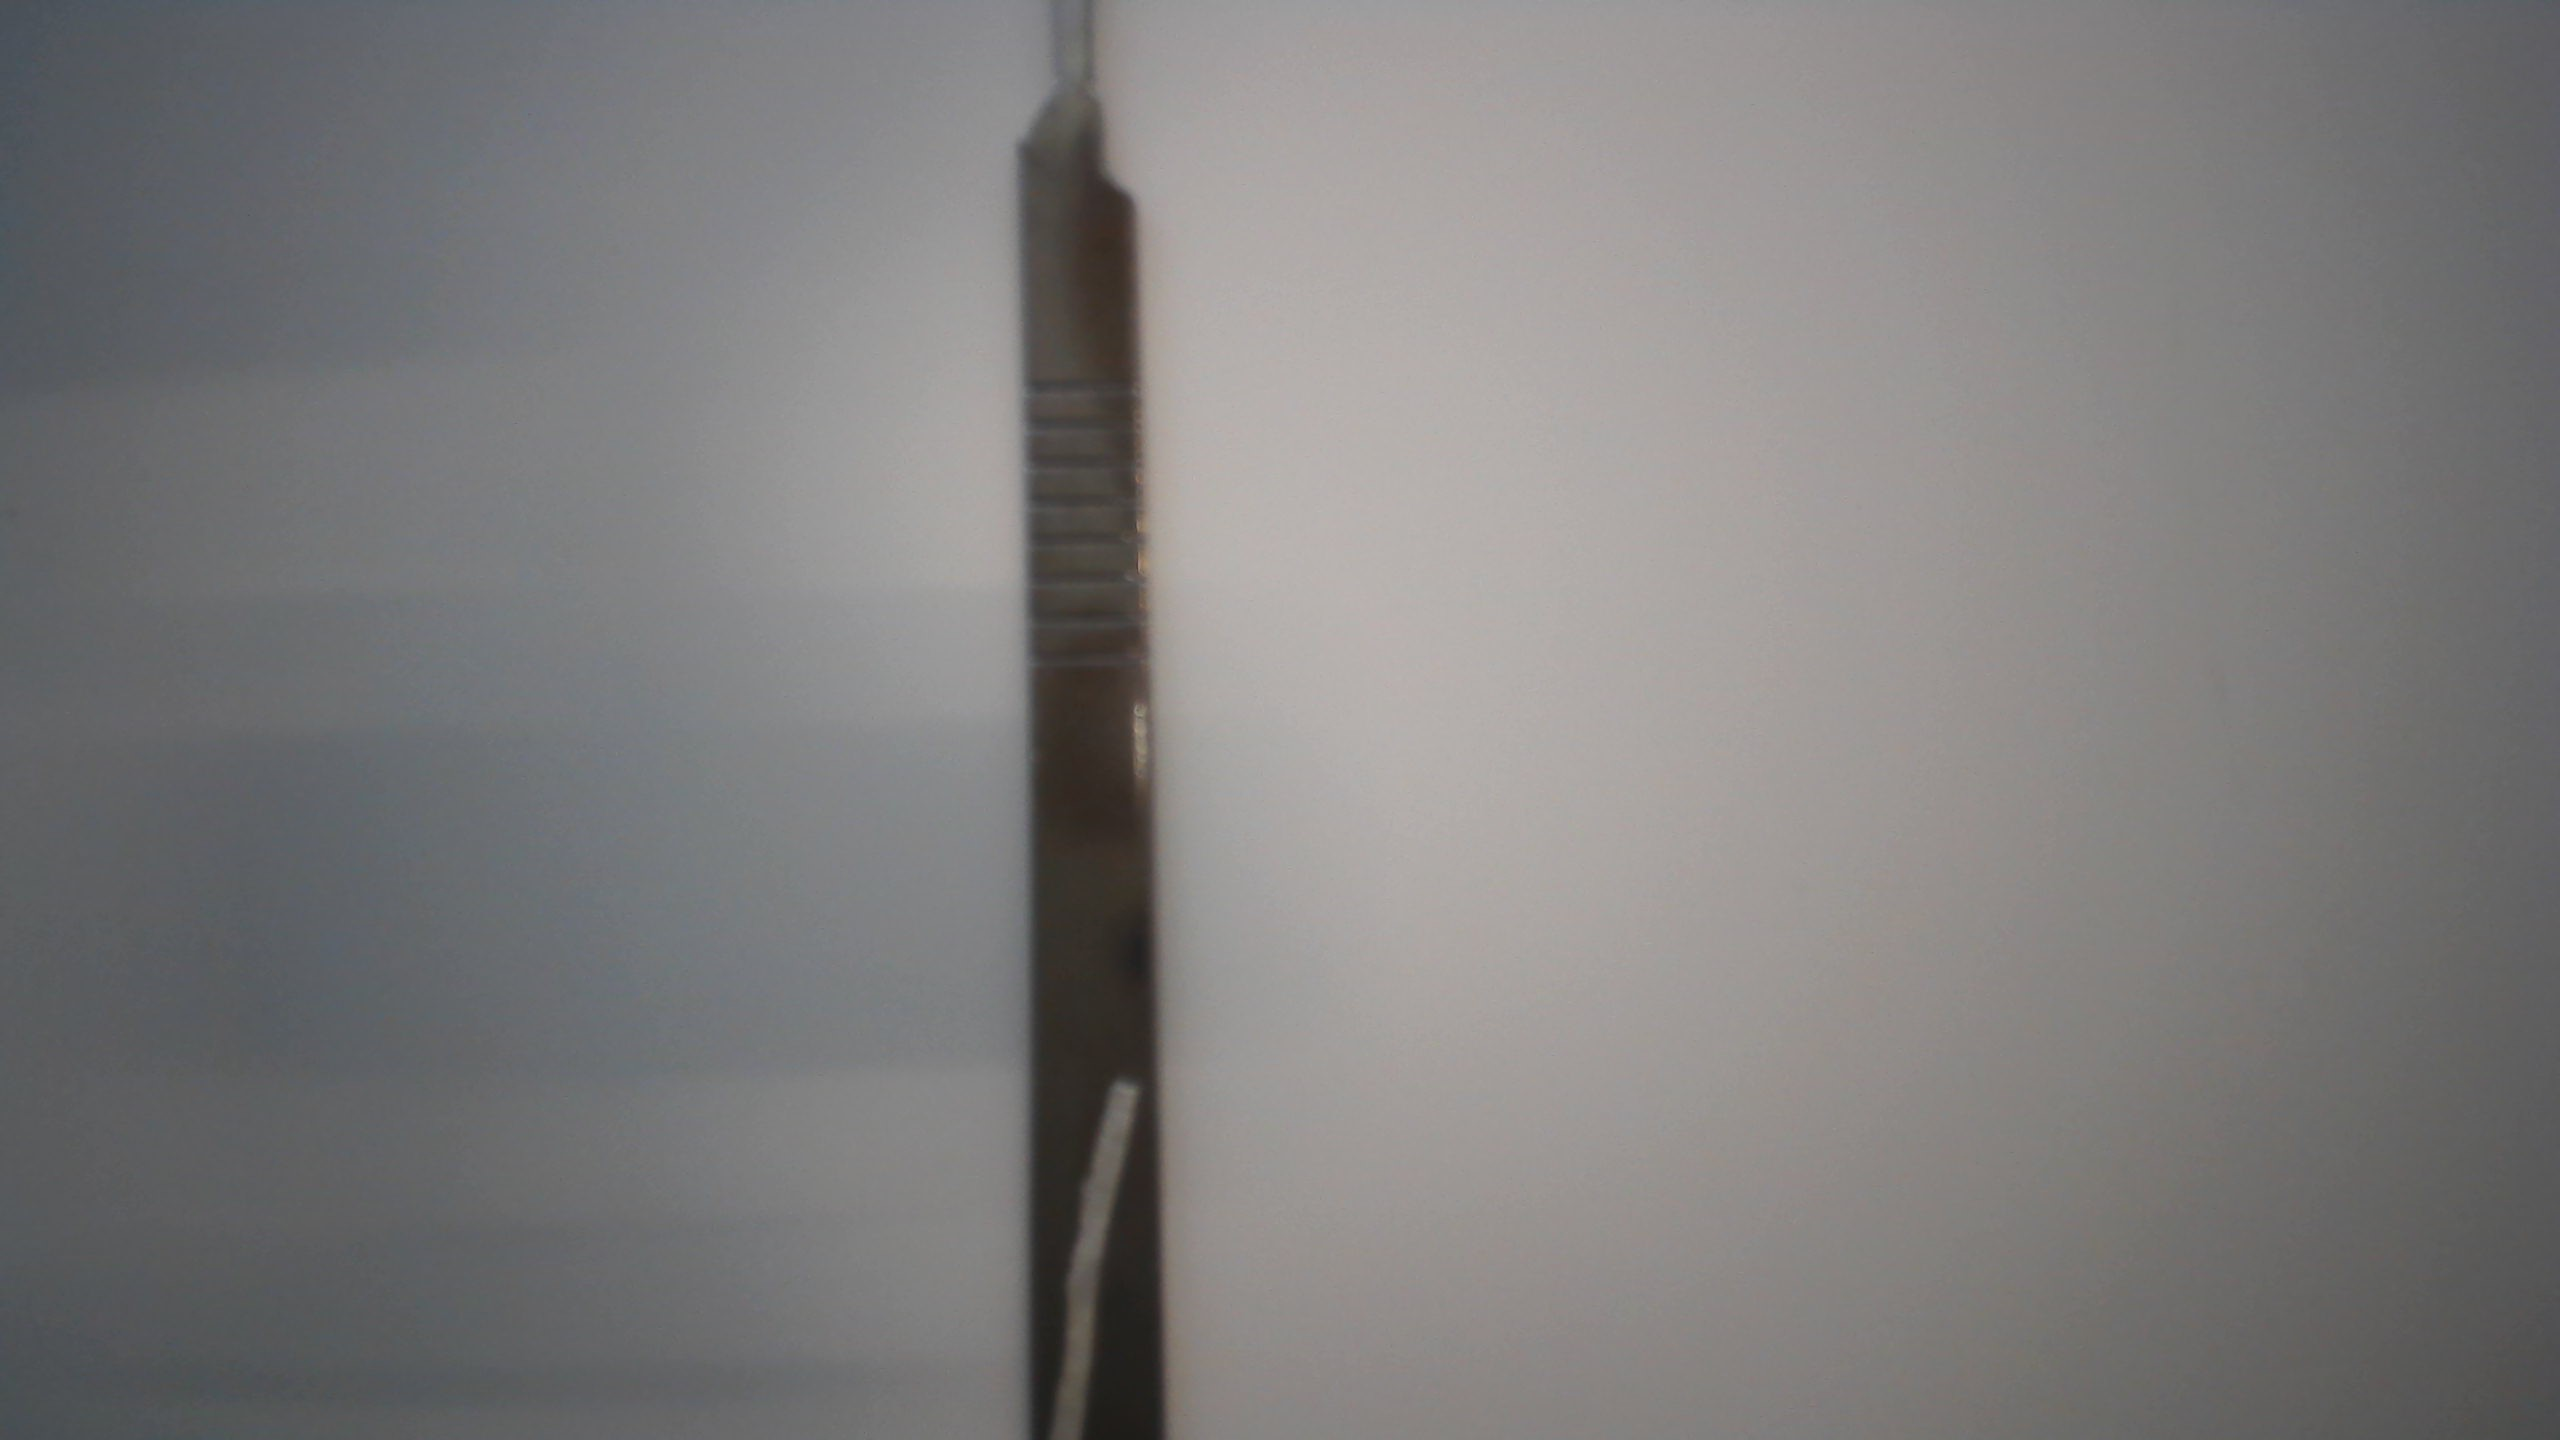Scratches: (1041, 1067, 1150, 1440)
